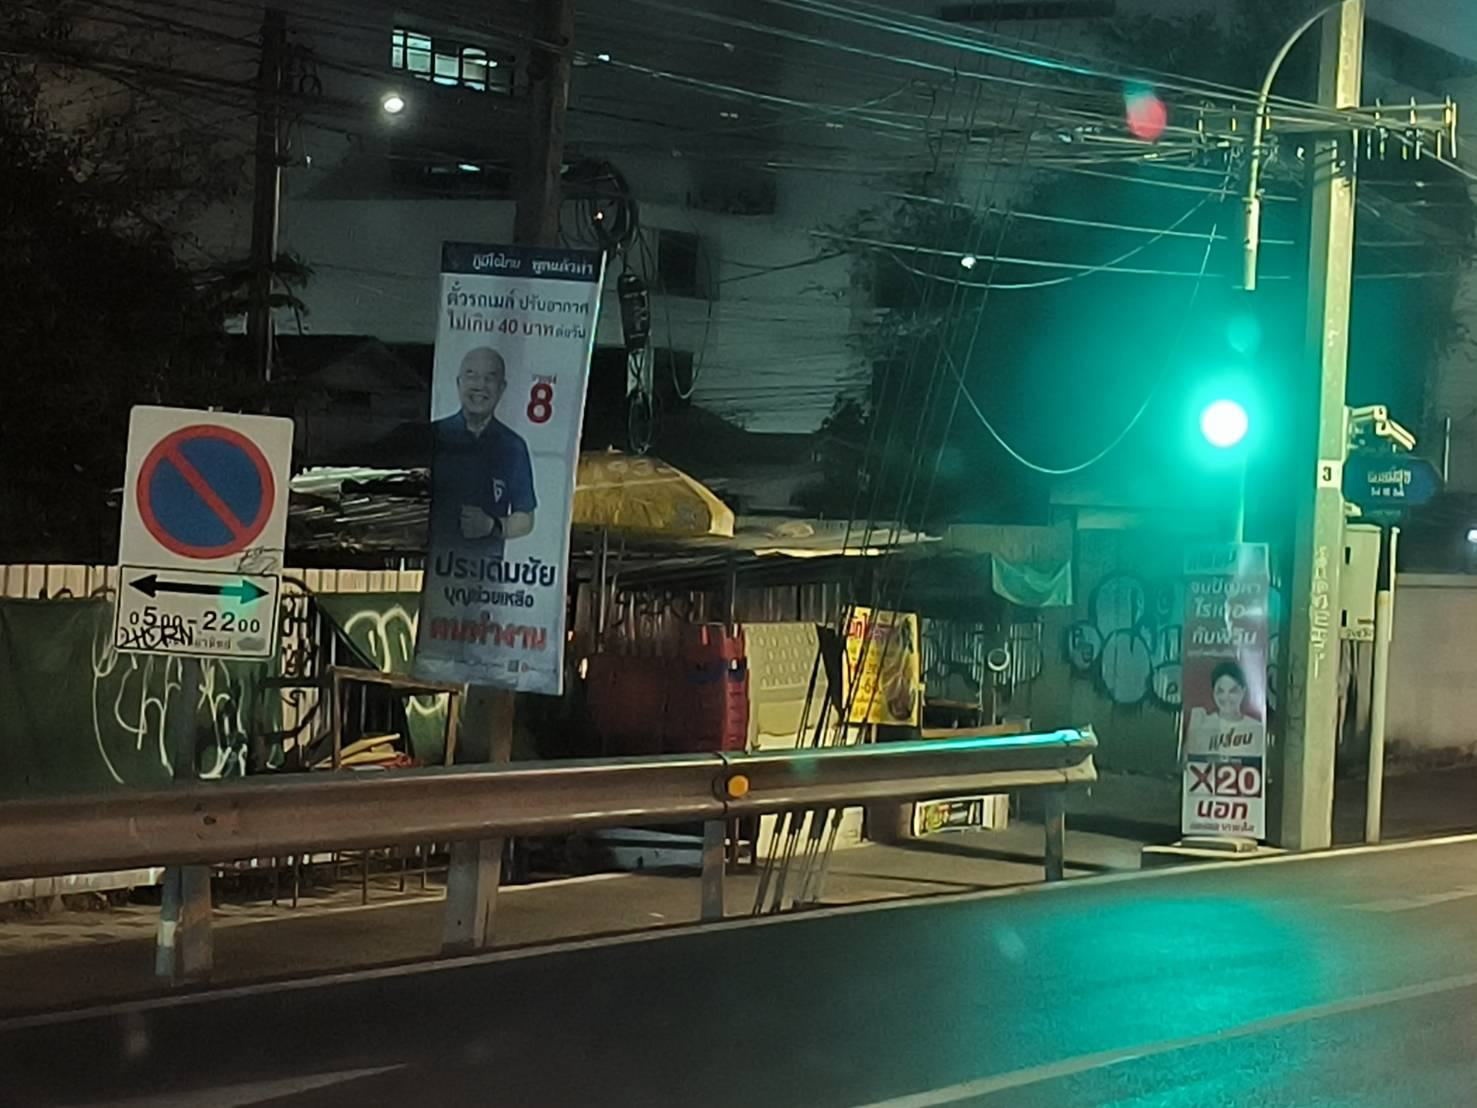Banner: (422, 242, 601, 694), (1183, 535, 1274, 841)
